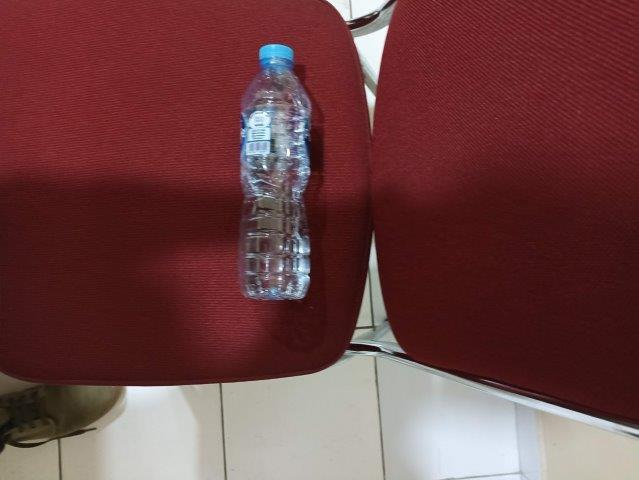botolplastik: (232, 43, 311, 299)
